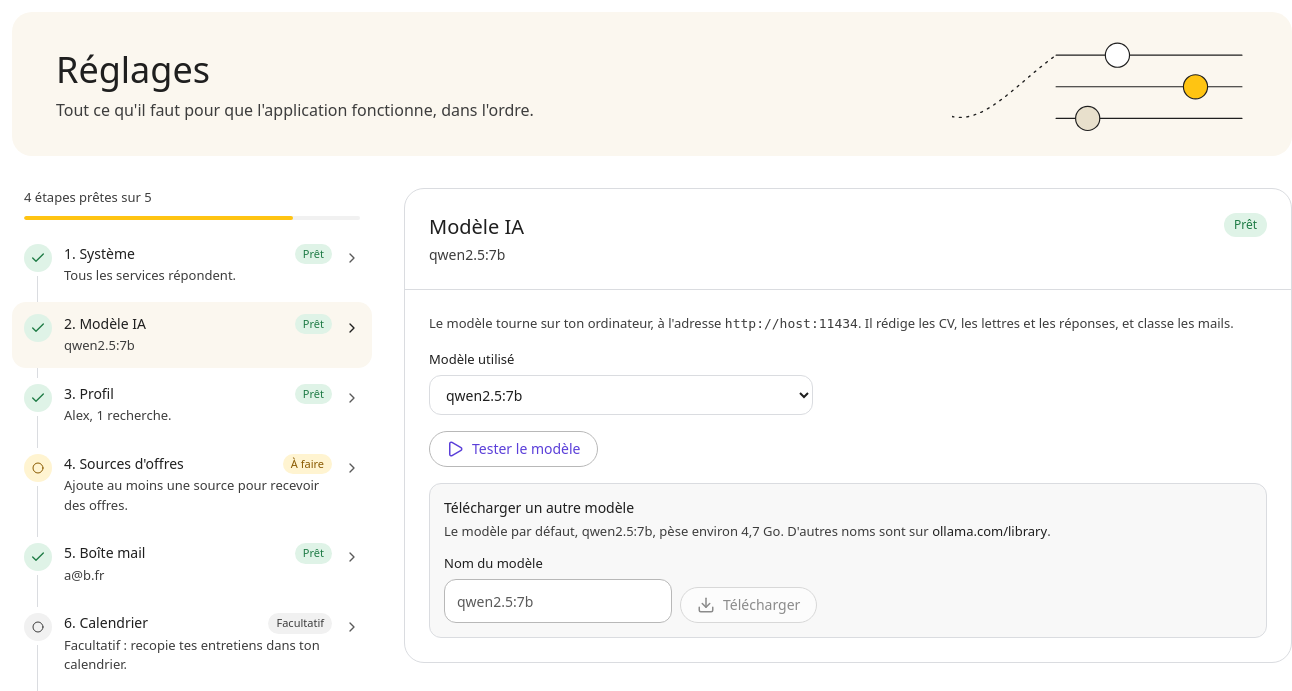
Test: SettingsScreen › changes and tests the model
The width and height of the screenshot is (1292, 691).
Select "gemma:4b" in the dropdown labelled "Modèle utilisé" at (621, 395), box [429,375,813,415]
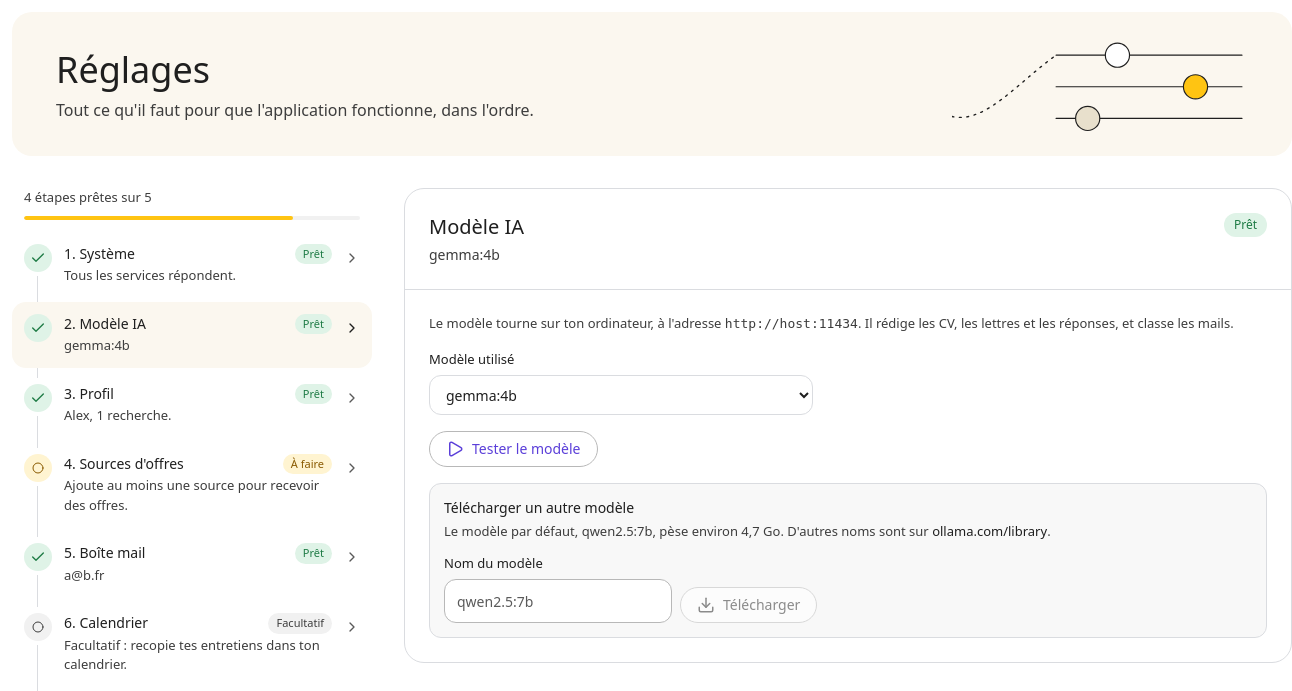
Click the button "Tester le modèle".
click(513, 449)  # box [429,431,598,467]
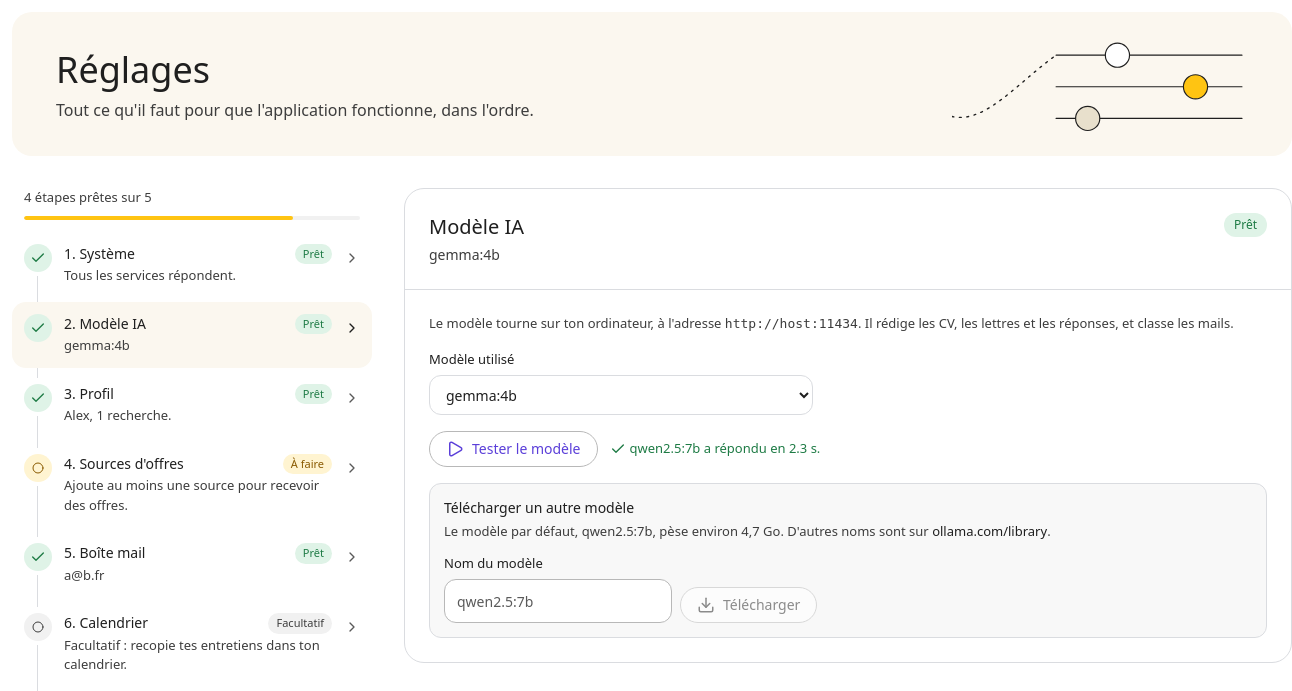
Result: the text "qwen2.5:7b a répondu en 2.3 s." is shown at [610,439,820,459]
